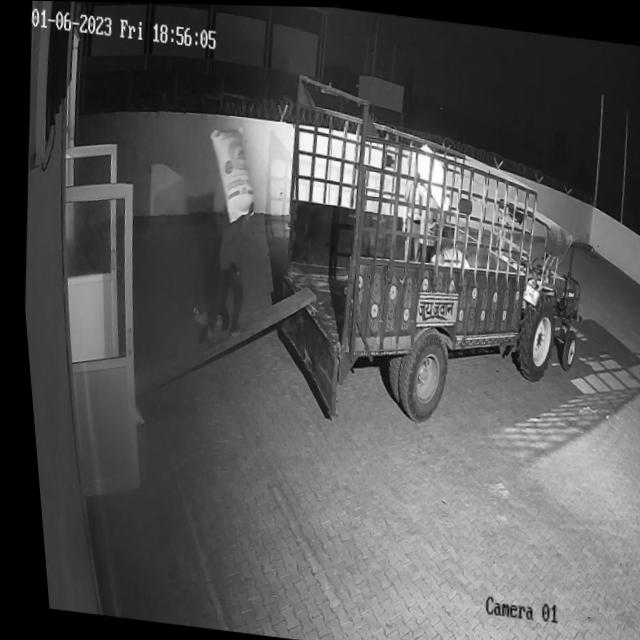sack: (197, 124, 259, 227)
